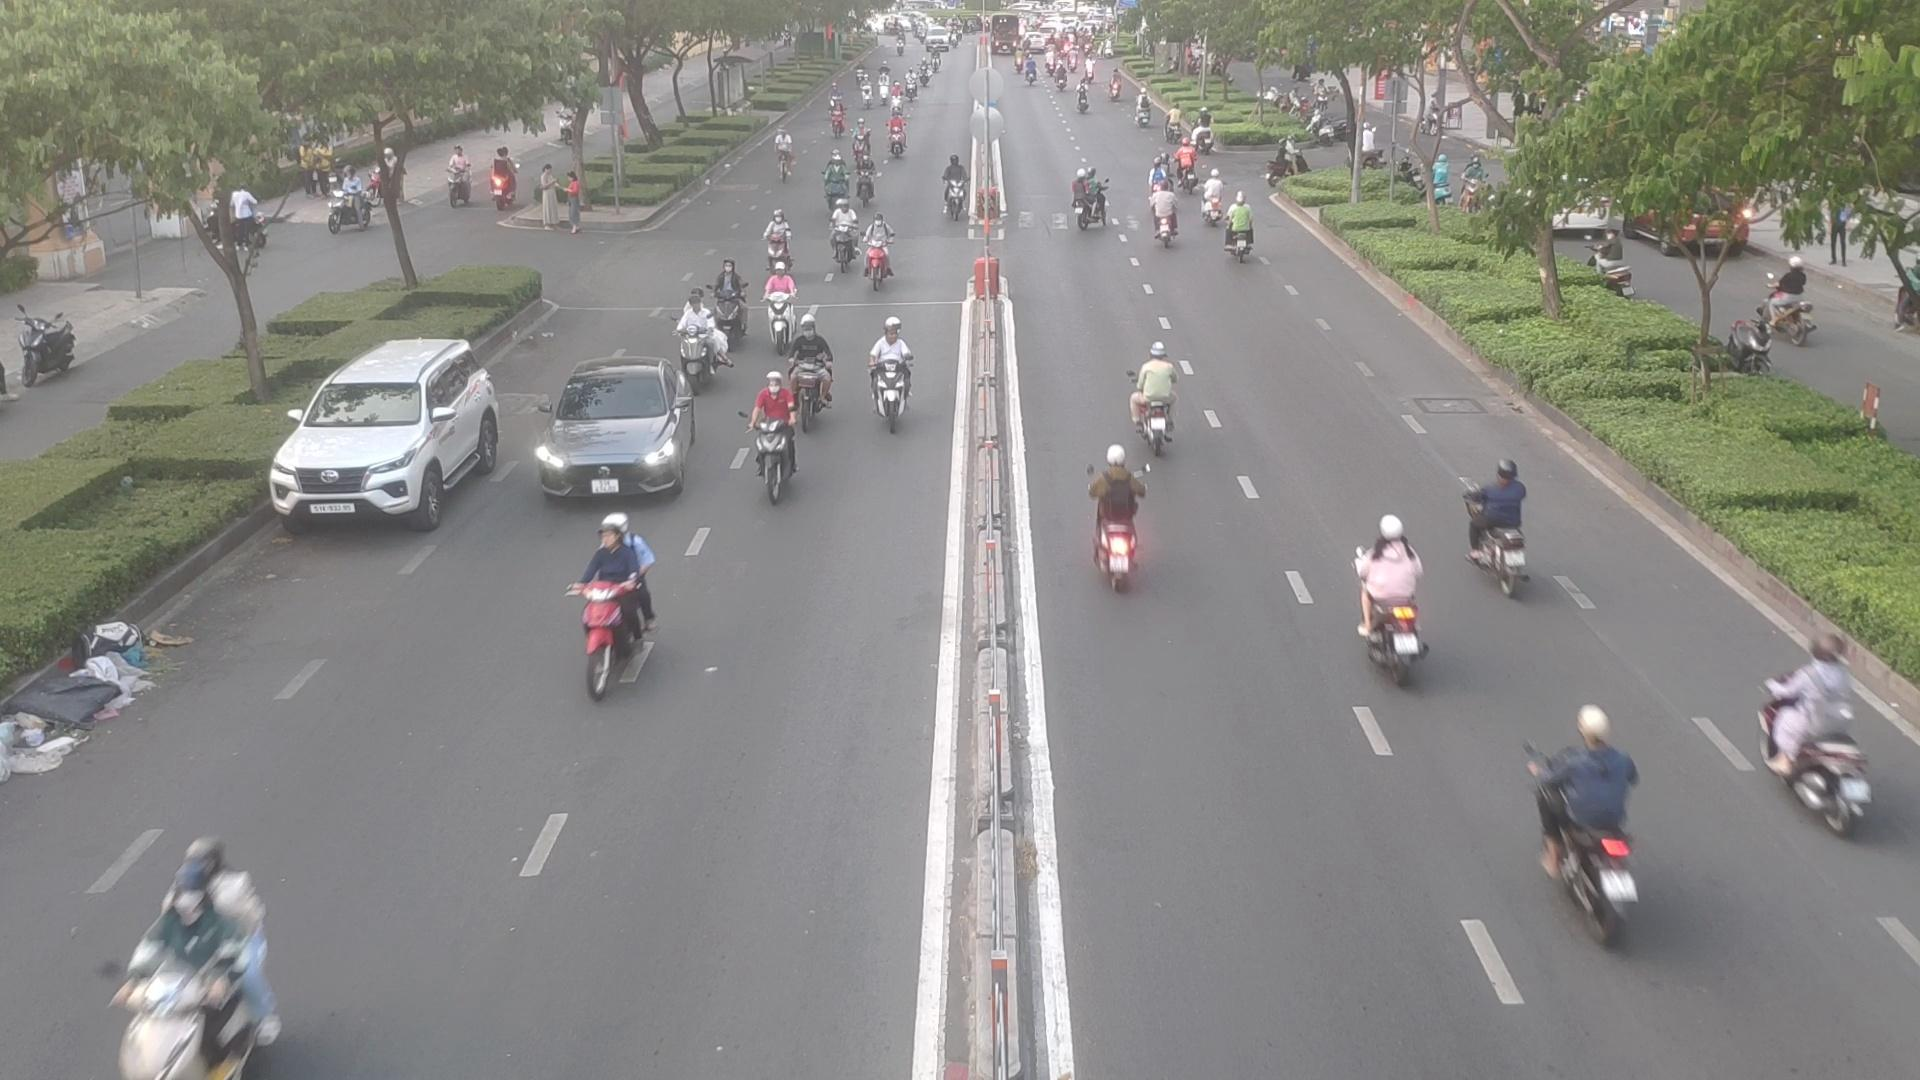car: (272, 339, 516, 530), (537, 365, 703, 502)
motorbike: (111, 837, 284, 1077), (1768, 637, 1920, 829), (1523, 713, 1640, 943), (560, 525, 666, 692), (1357, 529, 1439, 683), (1077, 454, 1159, 593), (1466, 467, 1535, 589), (746, 375, 800, 514), (861, 324, 916, 430), (1129, 349, 1185, 451), (673, 305, 728, 386), (796, 315, 833, 422), (705, 262, 752, 335), (1062, 167, 1110, 232), (761, 262, 796, 344), (858, 228, 899, 291), (1224, 200, 1262, 262), (942, 154, 977, 214), (1167, 146, 1200, 195), (1197, 169, 1226, 223), (825, 200, 851, 262), (1153, 182, 1178, 243), (823, 149, 847, 206), (882, 117, 910, 160), (765, 211, 786, 266), (855, 150, 874, 208), (849, 119, 870, 170)
